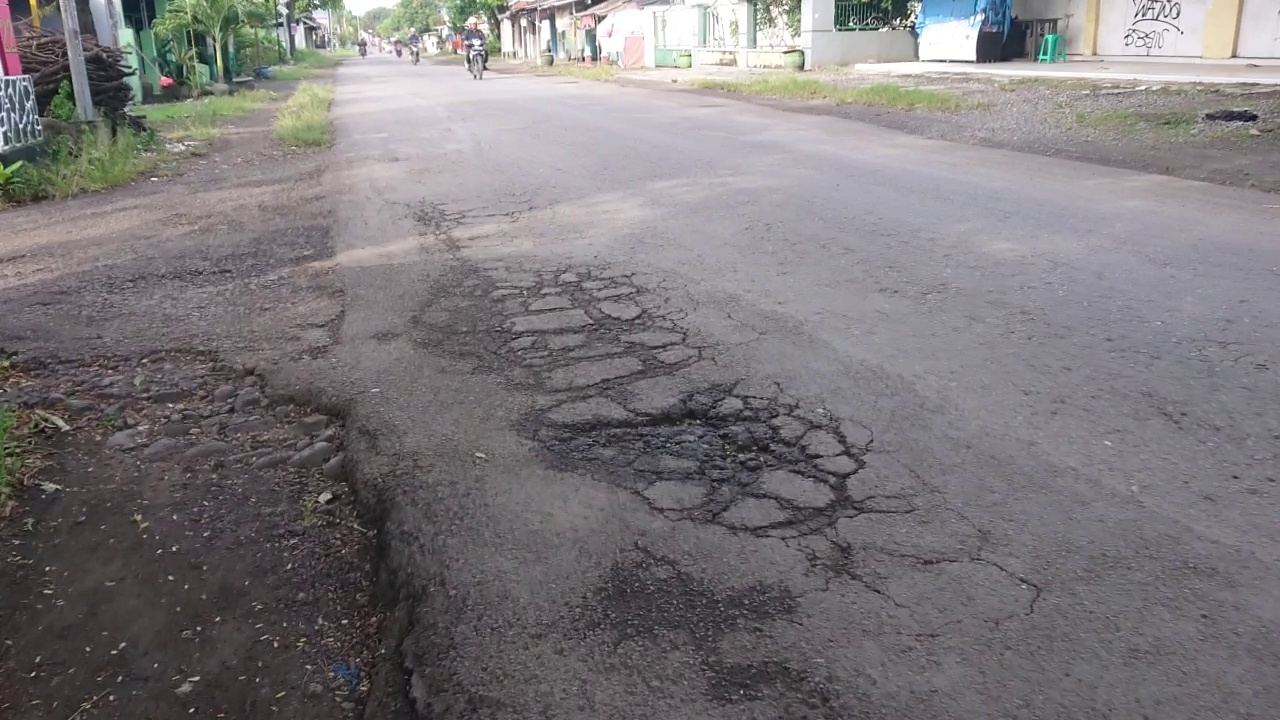Retak: (465, 272, 862, 589)
